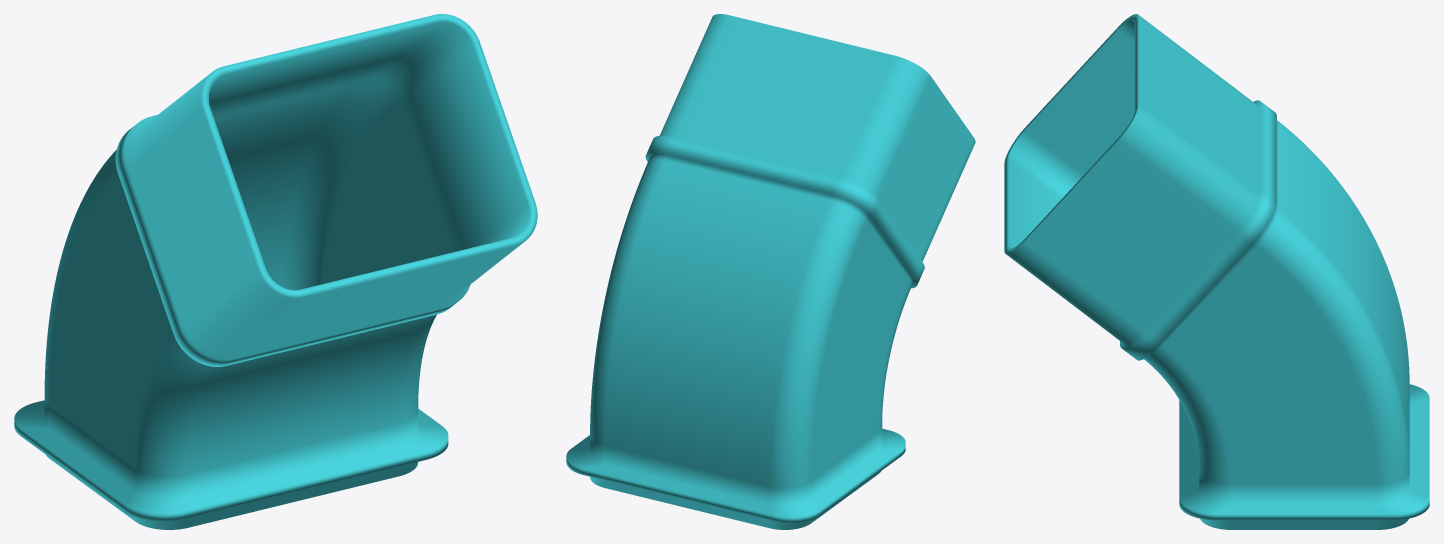
File: liner.glb
The picture shows the model from 3 angles, left to right: view 1: azimuth 30°, elevation 25°; view 2: azimuth 150°, elevation 25°; view 3: azimuth 270°, elevation 25°; orthographic projection. The views are drawn at different scales.
Parts seen in each view (by area): view 1: REVIEW_EXPORT_liner; view 2: REVIEW_EXPORT_liner; view 3: REVIEW_EXPORT_liner.
Part boxes in pixels (x1,y1,x2,y2): REVIEW_EXPORT_liner: [14, 14, 537, 529]; REVIEW_EXPORT_liner: [566, 14, 975, 529]; REVIEW_EXPORT_liner: [1004, 14, 1429, 529].
Size of the model in its own units: 0.124 by 0.1814 by 0.1699.
